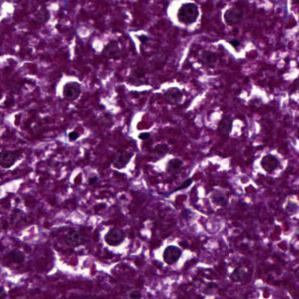inflammation: (250, 145, 291, 182), (151, 239, 196, 271), (165, 0, 206, 34), (94, 227, 133, 257), (52, 72, 85, 105)
